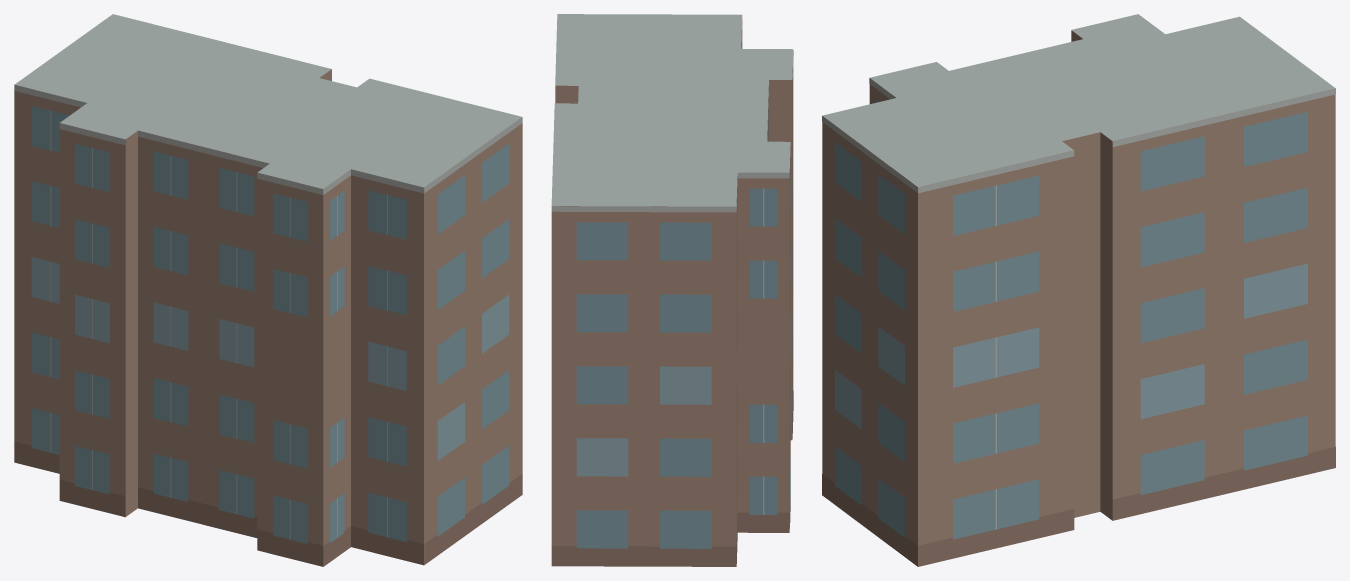
File: survey-upis-32974681.glb
3 renders of one model, left to right at view 1: azimuth 30°, elevation 25°; view 2: azimuth 150°, elevation 25°; view 3: azimuth 270°, elevation 25°, orthographic. The views are drawn at different scales.
Parts seen in each view (by area): view 1: survey-upis-32974681.tmp; view 2: survey-upis-32974681.tmp; view 3: survey-upis-32974681.tmp.
Boxes of the visible parts, left/top/right/bottom form: survey-upis-32974681.tmp: left=14, top=14, right=522, bottom=566; survey-upis-32974681.tmp: left=551, top=14, right=793, bottom=566; survey-upis-32974681.tmp: left=822, top=14, right=1335, bottom=566.
Size of the model in its own units: 14.94 by 15.25 by 18.71.
